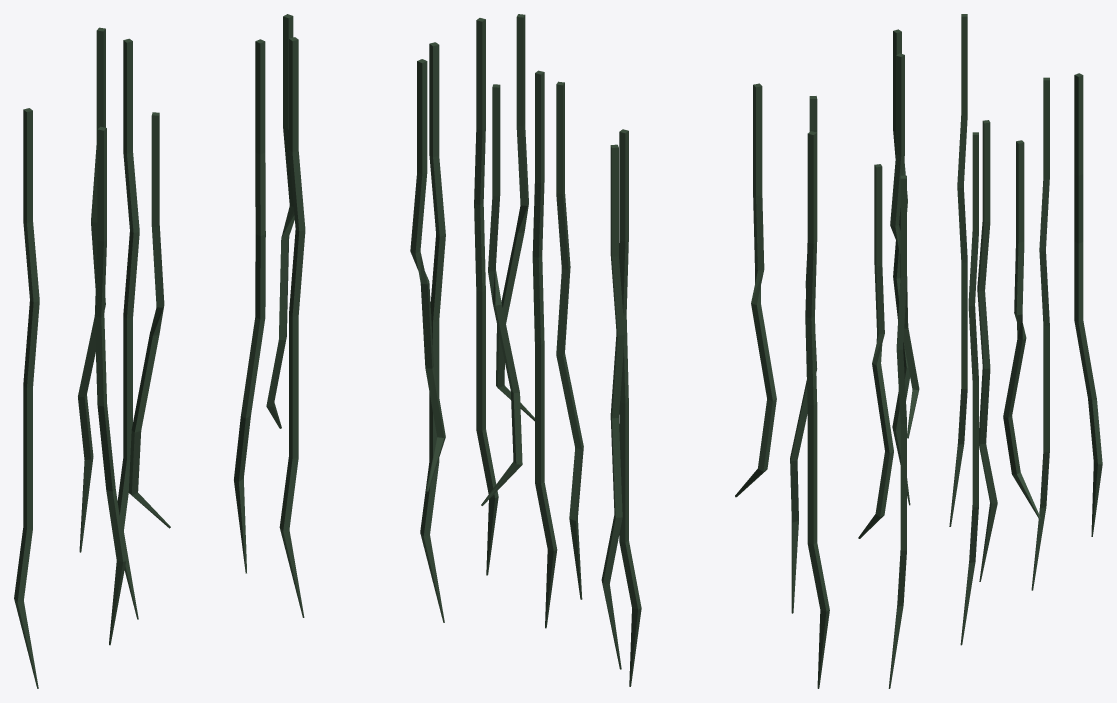
Rendered from SM_Env_Tree_Vines_01.glb.
3 renders of one model, left to right at view 1: azimuth 30°, elevation 25°; view 2: azimuth 150°, elevation 25°; view 3: azimuth 270°, elevation 25°, orthographic. The views are drawn at different scales.
Visible parts, largest first — view 1: SM_Env_Tree_Vines_01_part00; view 2: SM_Env_Tree_Vines_01_part00; view 3: SM_Env_Tree_Vines_01_part00.
Part boxes in pixels (<box>): SM_Env_Tree_Vines_01_part00: <box>14,14,445,688</box>; SM_Env_Tree_Vines_01_part00: <box>474,14,829,688</box>; SM_Env_Tree_Vines_01_part00: <box>858,14,1102,688</box>.
Size of the model in its own units: 2.19 by 3.05 by 1.32.
1 material, 1 textured.
